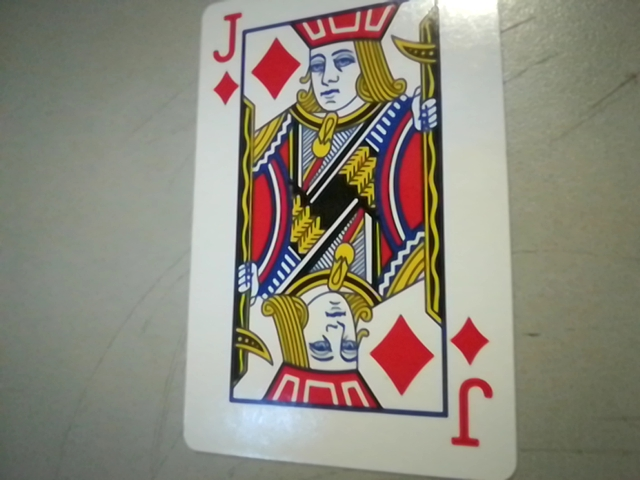fk j: (442, 308, 504, 465)
